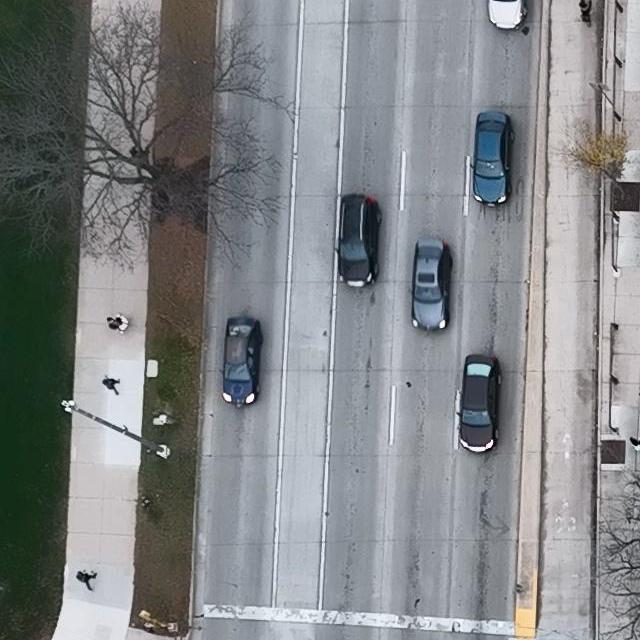car: (460, 354, 504, 456), (335, 194, 382, 289), (470, 112, 515, 208), (409, 239, 454, 332), (220, 317, 264, 409), (486, 0, 529, 31)
